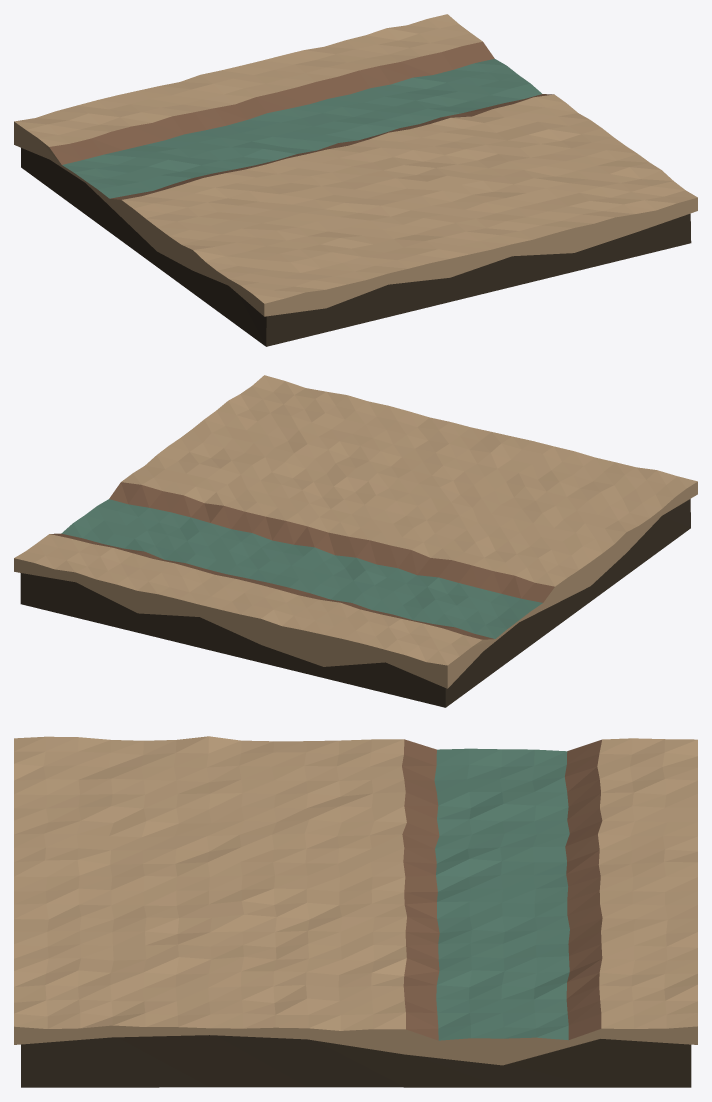
3 views of the same model, one above another, from view 1: azimuth 30°, elevation 25°; view 2: azimuth 150°, elevation 25°; view 3: azimuth 270°, elevation 25° (orthographic). The views are drawn at different scales.
Parts seen in each view (by area): view 1: Base; view 2: Base; view 3: Base.
Boxes of the visible parts, <box> form: Base: <box>14,14,697,346</box>; Base: <box>14,375,697,707</box>; Base: <box>14,736,697,1087</box>.
Size of the model in its own units: 10000 by 1048 by 9999.
